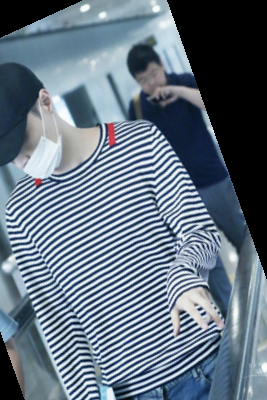mask_weared_incorrect: (1, 59, 62, 199)
